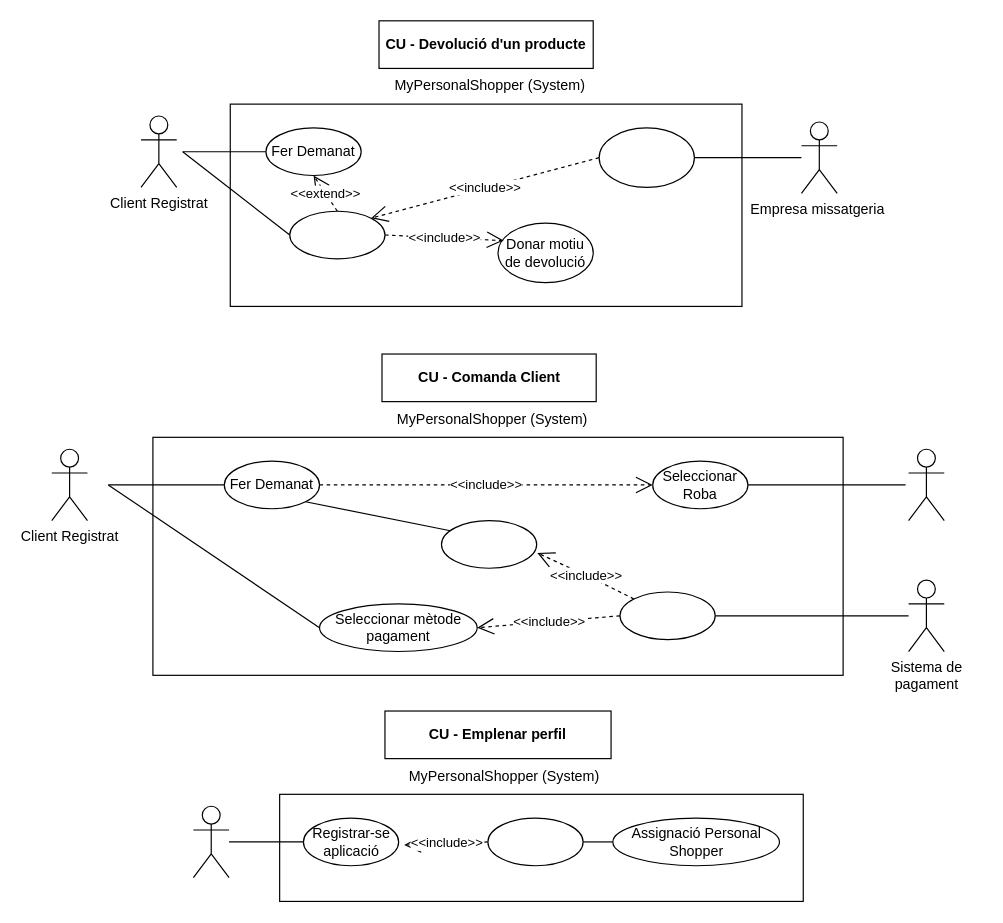
The diagram is 1003 pixels wide and 923 high, and some of its shapes have lost their labels. Each missing label, with the centre of its shape:
"Client no registrat" goes at pixel 210 841.
"Fer Devolució" goes at pixel 337 234.
"Gestionar devolució" goes at pixel 646 157.
"Omplir perfil" goes at pixel 535 841.
"Personal Shopper" goes at pixel 925 484.
"Processar Comanda" goes at pixel 488 543.
"Processar Pagament" goes at pixel 667 615.
